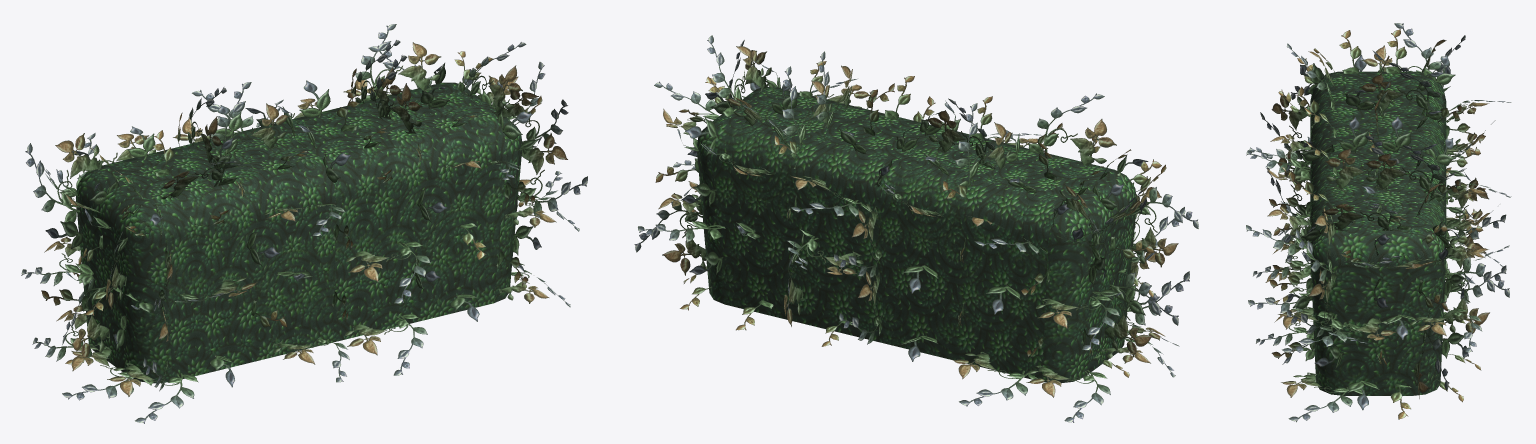
File: Hedge_M.dae
3 views of the same model, side by side, from view 1: azimuth 30°, elevation 25°; view 2: azimuth 150°, elevation 25°; view 3: azimuth 270°, elevation 25° (orthographic). The views are drawn at different scales.
Visible parts, largest first — view 1: Hedge_M; view 2: Hedge_M; view 3: Hedge_M.
Boxes of the visible parts, left/top/right/bottom form: Hedge_M: left=21, top=24, right=587, bottom=423; Hedge_M: left=634, top=35, right=1198, bottom=422; Hedge_M: left=1246, top=23, right=1511, bottom=422.
Size of what is drawn, in the model's own units: 796 by 406 by 413.
